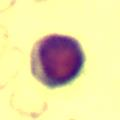lymphocyte: (29, 33, 87, 87)
